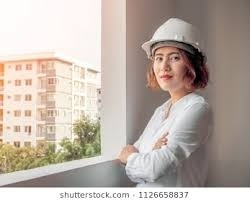helmet: (141, 16, 204, 53)
person with partial safety: (131, 15, 212, 185)
